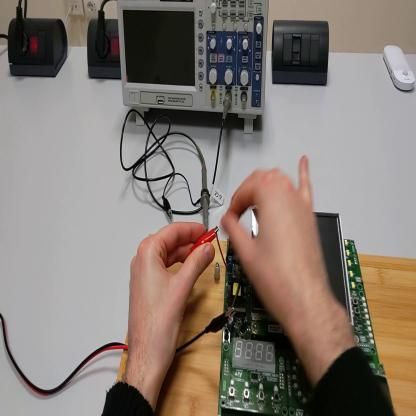hand: (223, 158, 332, 326), (126, 224, 213, 368)
low voltage board: (216, 212, 395, 416)
oscilloscope: (117, 2, 269, 130)
oscilloscope probe tip: (198, 147, 213, 225)
socket: (8, 13, 70, 82), (90, 17, 122, 80)
working area: (120, 239, 416, 416)
